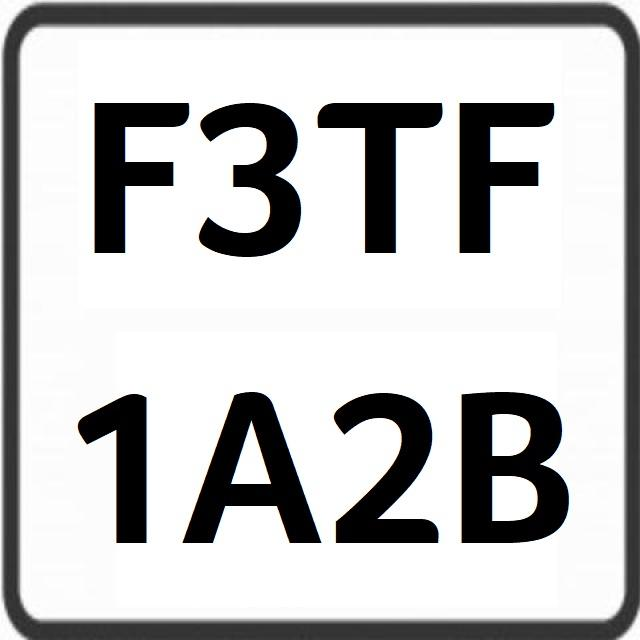1: (73, 387, 155, 551)
2: (329, 390, 447, 552)
3: (194, 92, 310, 262)
A: (178, 388, 325, 553)
B: (453, 389, 576, 546)
F: (86, 91, 193, 263), (456, 90, 561, 260)
T: (322, 92, 447, 261)
